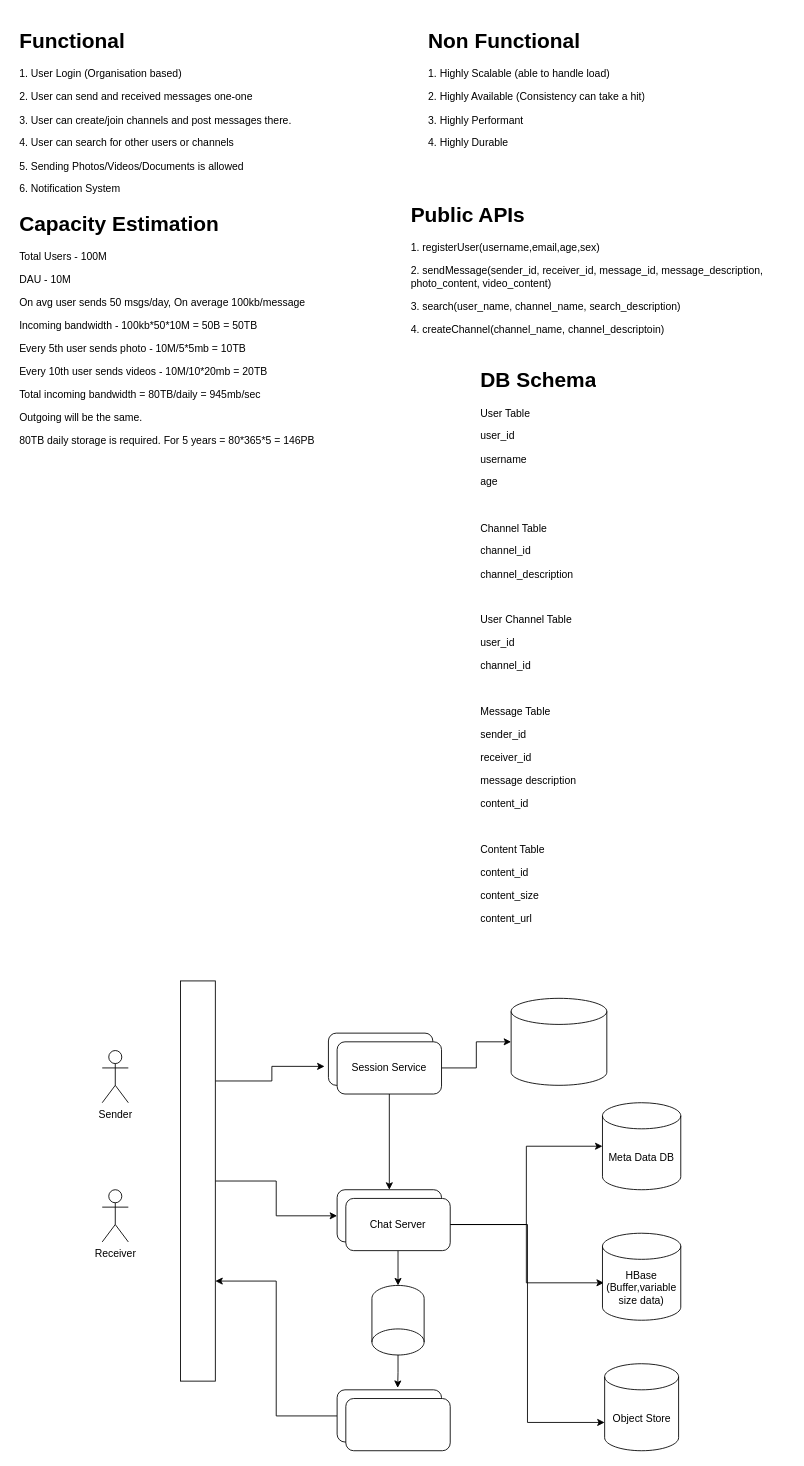
The diagram is 804 pixels wide and 1466 high, and some of its shapes have lost their labels. Each missing label, with the box of its shape:
Distributed Cache: (510, 997, 607, 1085)
DMQ: (371, 1285, 424, 1355)
LB: (180, 980, 215, 1381)
Notification Service: (345, 1398, 450, 1451)
